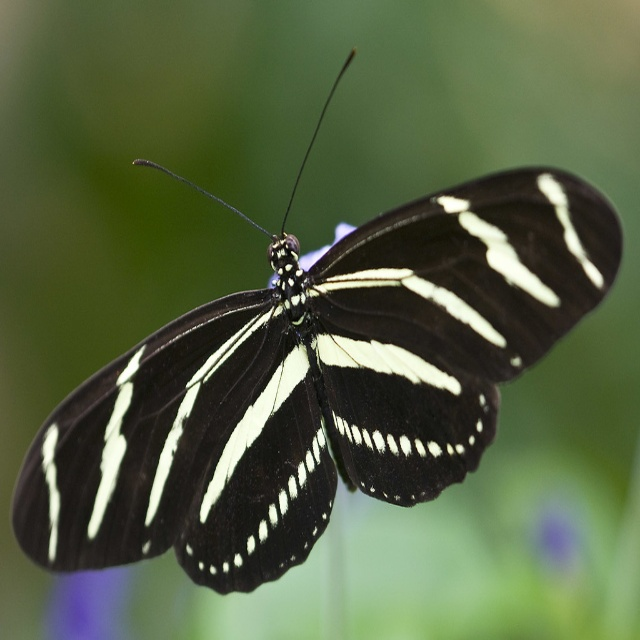Butterfly: (39, 32, 619, 635)
